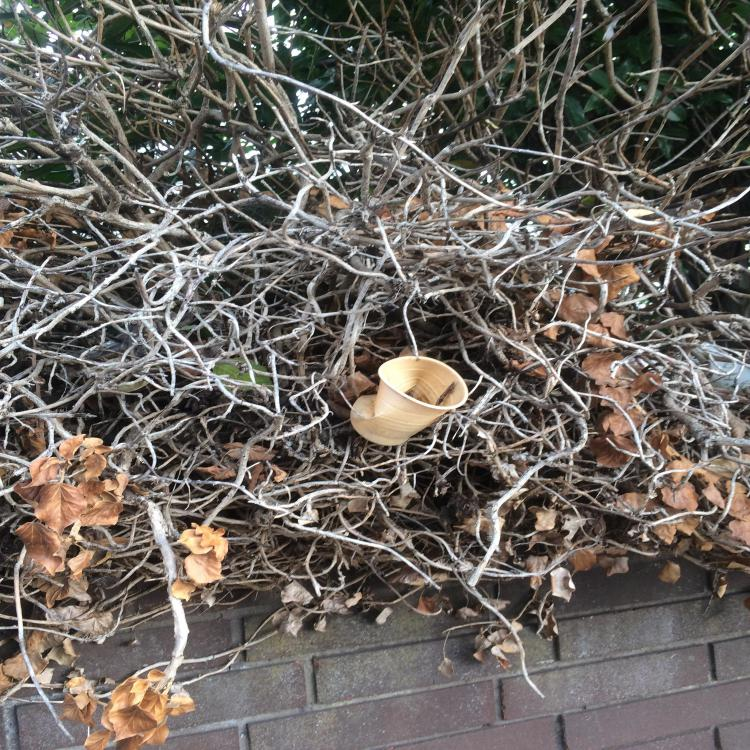Disposable plastic cup: (350, 356, 468, 446)
